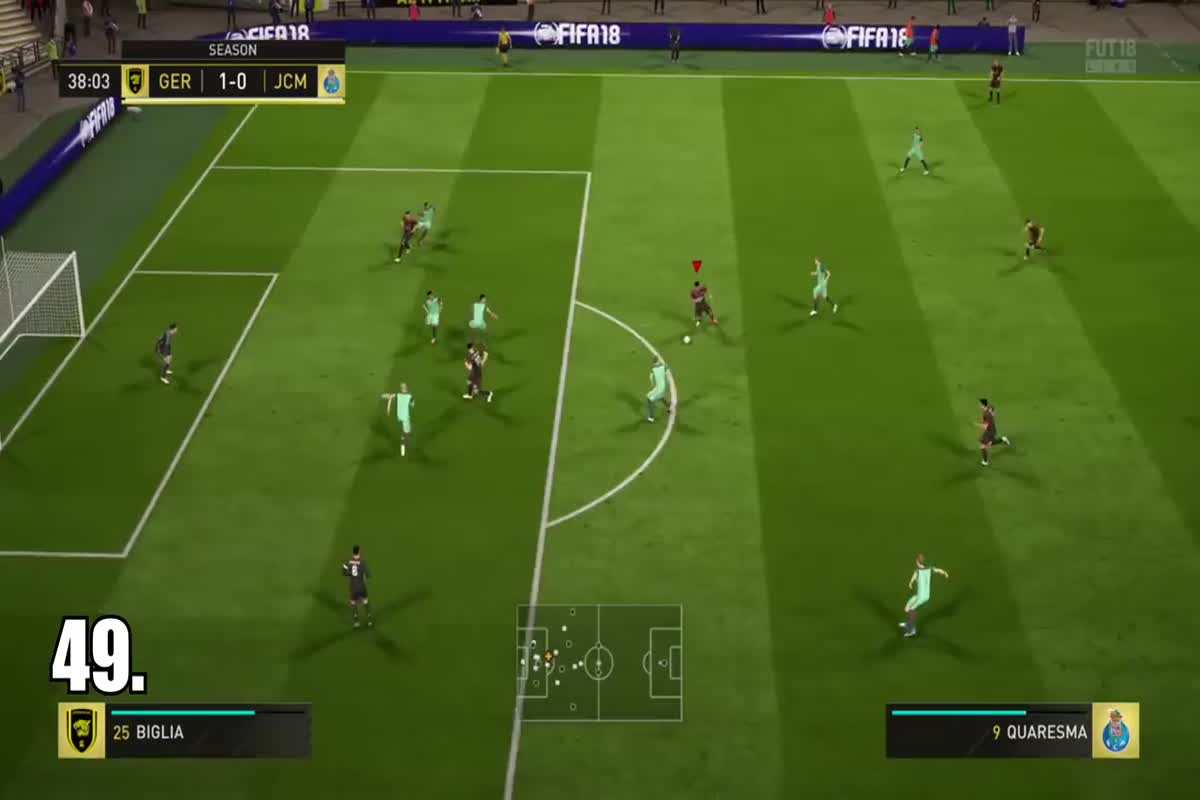ball: (678, 331, 699, 349)
